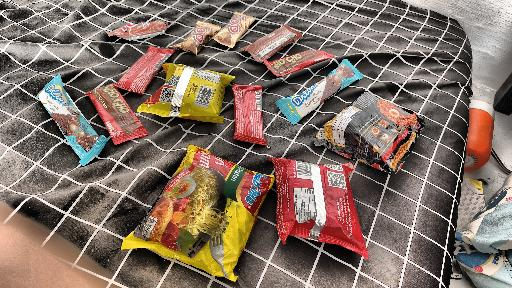chocho: (86, 74, 160, 151), (227, 86, 277, 143)
dilan: (38, 79, 116, 181), (279, 65, 372, 124)
indomie: (128, 155, 277, 281)
mie sedap: (313, 91, 426, 177)
momotaro: (267, 148, 374, 259), (146, 59, 233, 131)
